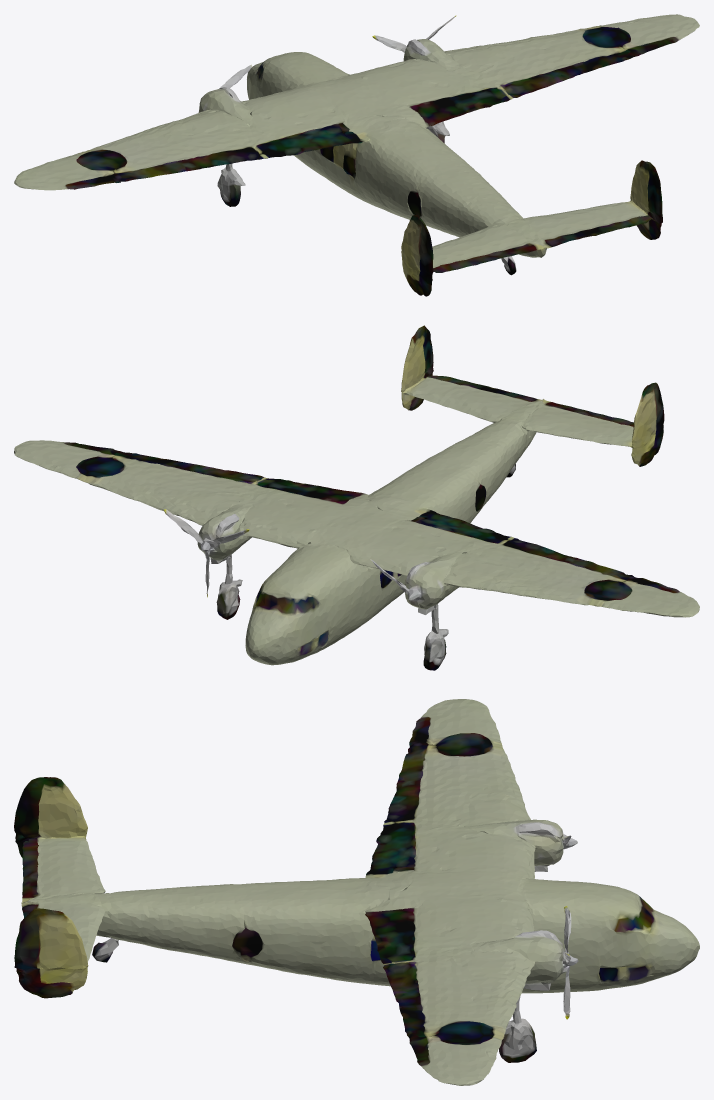
The picture shows the model from 3 angles, top to bottom: view 1: azimuth 30°, elevation 25°; view 2: azimuth 150°, elevation 25°; view 3: azimuth 270°, elevation 25°; orthographic projection. The views are drawn at different scales.
Visible parts, largest first — view 1: defaultobject; view 2: defaultobject; view 3: defaultobject.
Boxes of the visible parts, box(x1,y1,x2,y2) form: defaultobject: box(14, 14, 699, 296); defaultobject: box(14, 325, 699, 670); defaultobject: box(14, 699, 699, 1085).
Size of the model in its own units: 0.9513 by 0.1869 by 0.7134.
